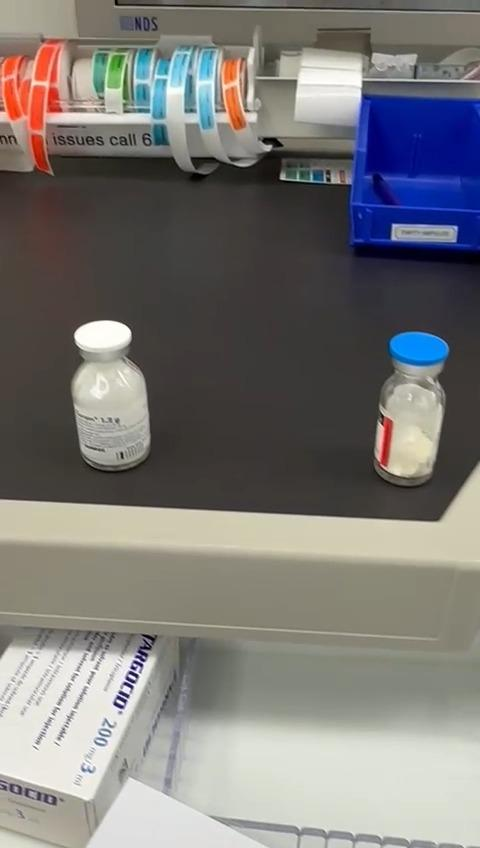augmentin: (71, 321, 151, 470)
cefazolin: (376, 333, 449, 486)
